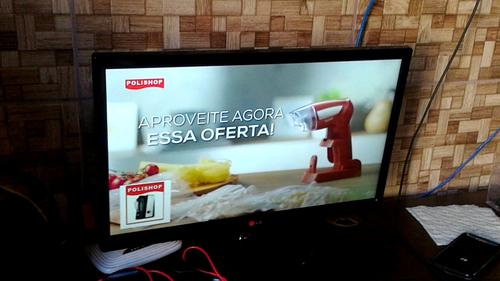Polishop #1: (120, 180, 171, 230)
